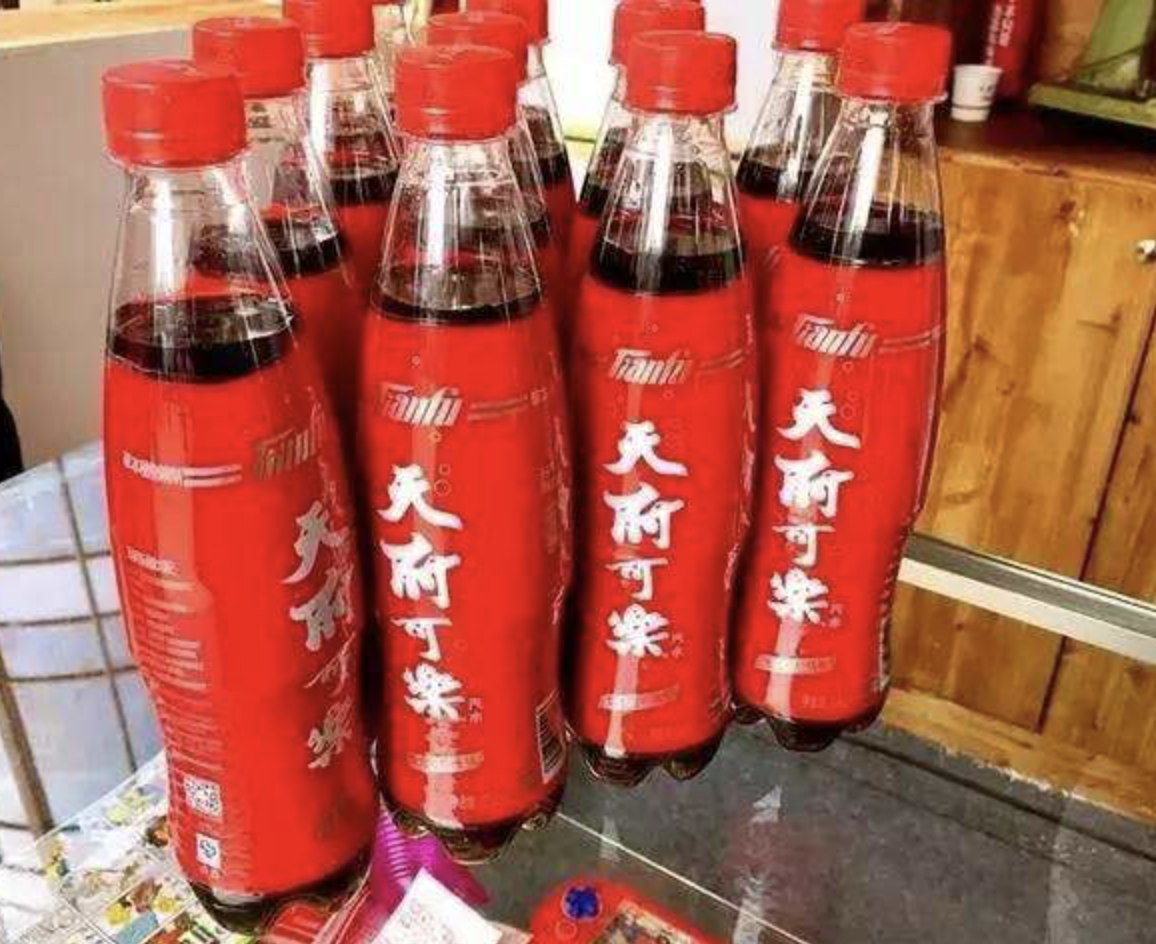天府可乐: (77, 59, 368, 919), (366, 51, 574, 857), (745, 19, 952, 752), (572, 31, 765, 787)
